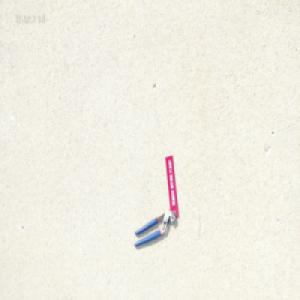Label: (165, 152, 178, 215)
Pliers: (133, 209, 175, 247)
